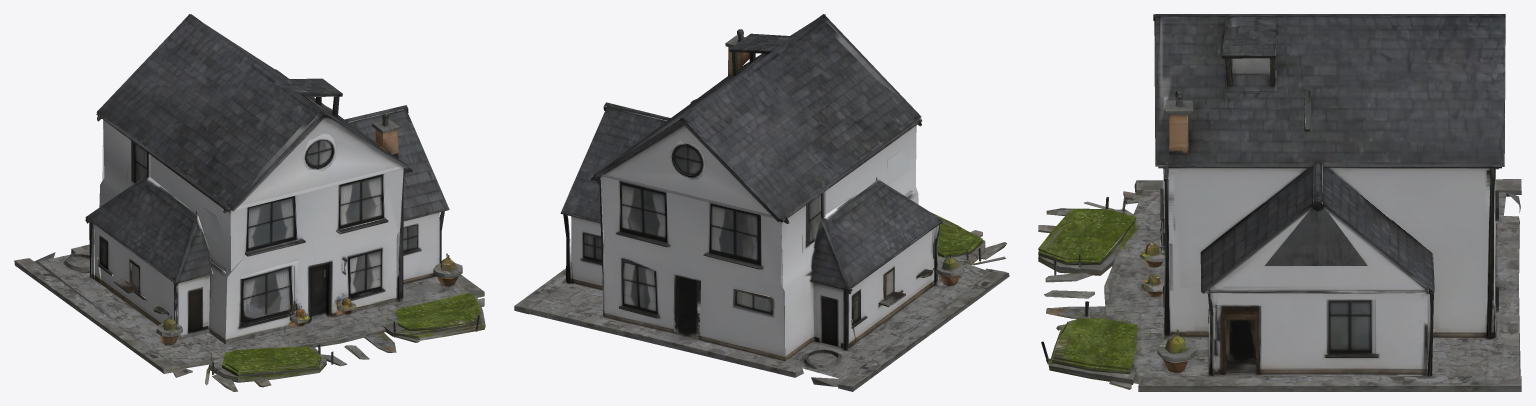
File: house__modern-white_e7.glb
3 views of the same model, side by side, from view 1: azimuth 30°, elevation 25°; view 2: azimuth 150°, elevation 25°; view 3: azimuth 270°, elevation 25° (orthographic). The views are drawn at different scales.
Bounding box in the file's own units: 1 × 0.6445 × 1.
1 material, 1 textured.
